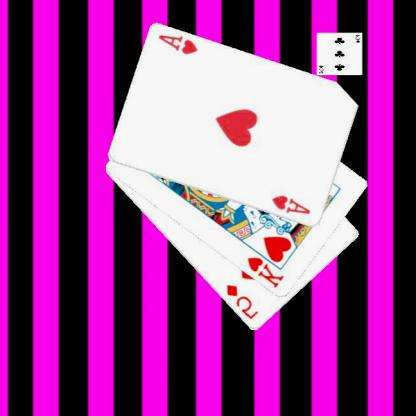5D: (225, 282, 262, 322)
AH: (157, 32, 201, 57), (271, 192, 314, 216)
KH: (246, 254, 287, 290)
